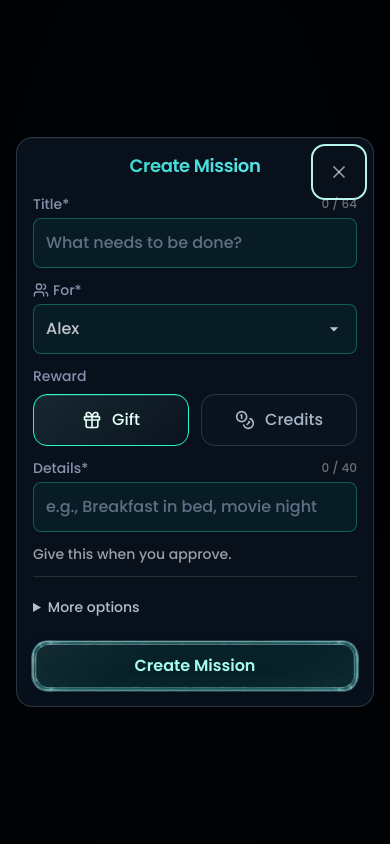
mission creation and recipients › starts with optional details closed, while an explicit reward stays required
Step 1. Type "Walk Luna" into the field labelled "Title*" → x=195, y=243, box [33,218,357,268]
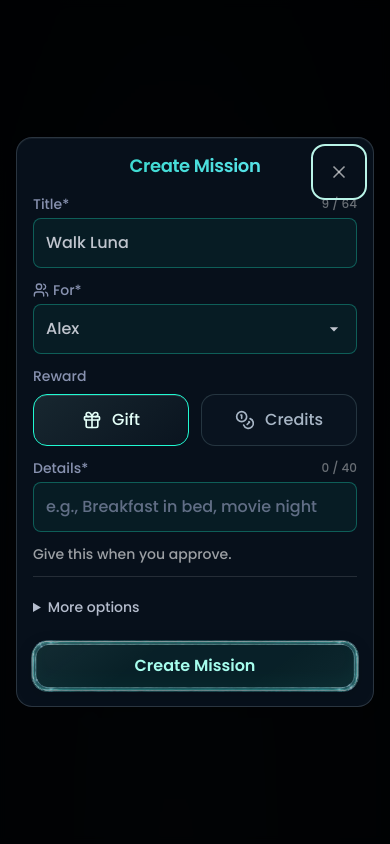
Step 2. Click the button "Create Mission" → x=195, y=666, box [33,642,357,690]
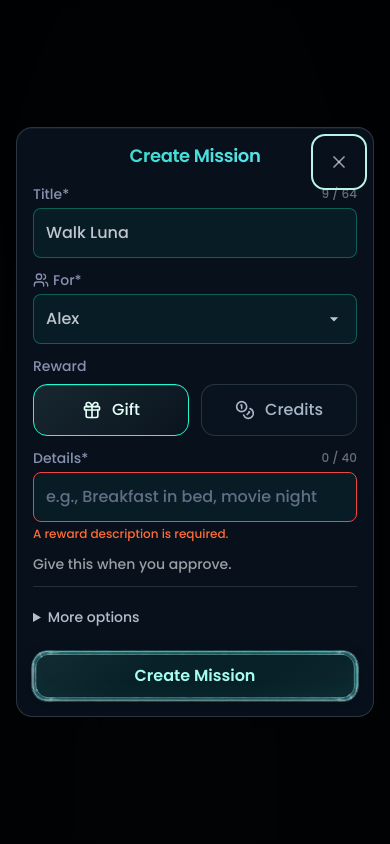
Check: the text "A reward description is required." is shown, box [33,525,228,542]
